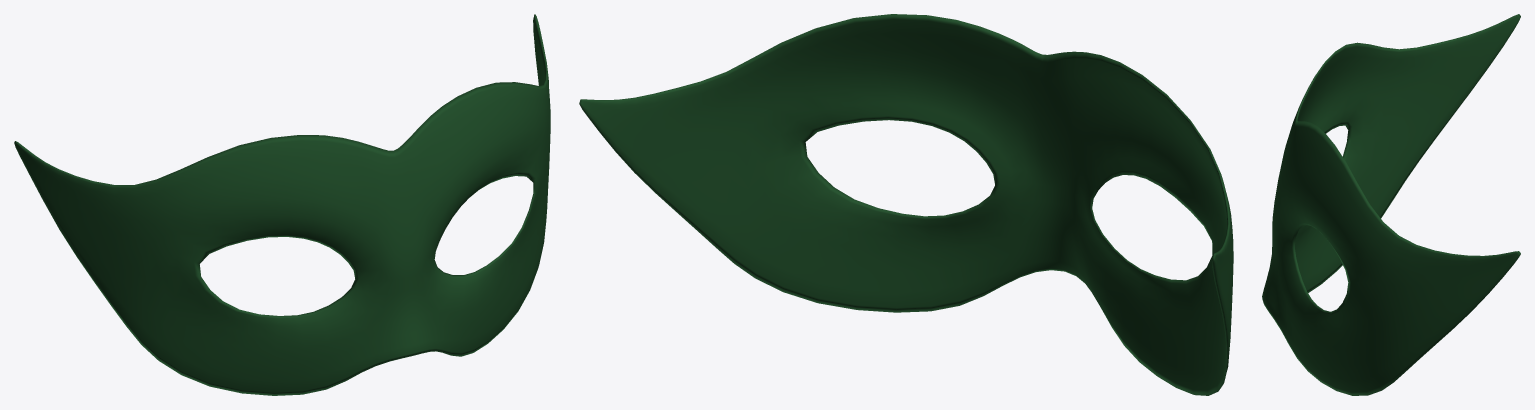
File: servant_mask.fbx
3 renders of one model, left to right at view 1: azimuth 30°, elevation 25°; view 2: azimuth 150°, elevation 25°; view 3: azimuth 270°, elevation 25°, orthographic. The views are drawn at different scales.
Parts seen in each view (by area): view 1: ServantMask; view 2: ServantMask; view 3: ServantMask.
Boxes of the visible parts, x1,y1,x2,y2 form: ServantMask: [14, 14, 550, 395]; ServantMask: [579, 14, 1233, 395]; ServantMask: [1262, 14, 1520, 395].
Bounding box in the file's own units: 0.1677 × 0.0778 × 0.0773.
